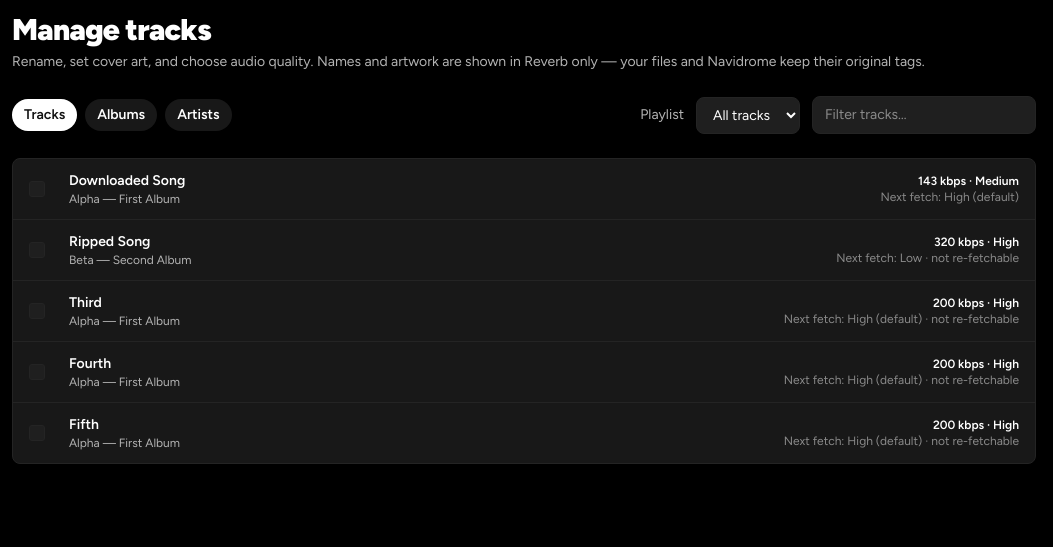
Test: ManageTracks › selection gestures › pressing and sweeping selects the rows crossed
Press the mouse on the list item "Downloaded Song" at (524, 190), box [13,159,1035,220]
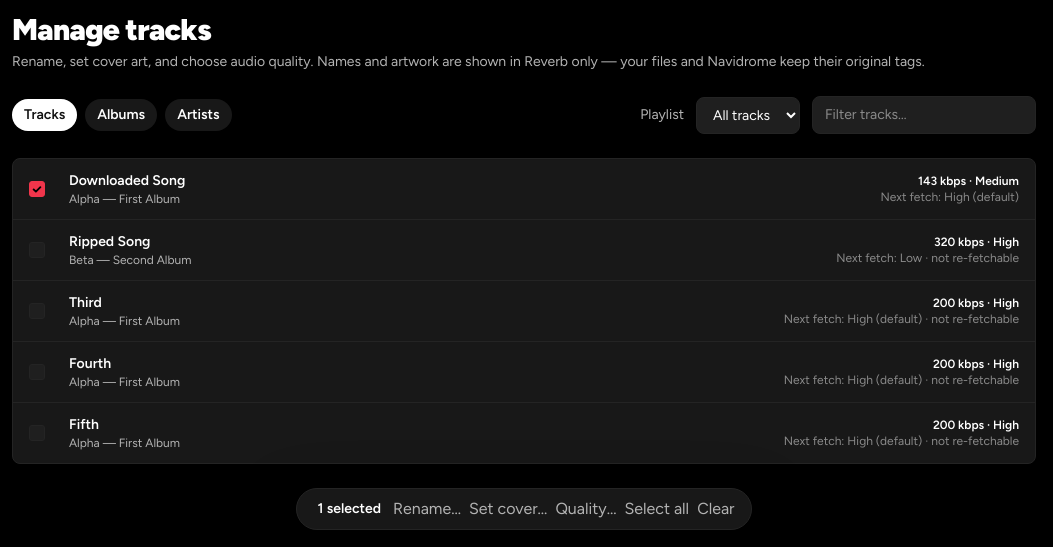
Hover over the list item "Ripped Song".
mouse_move(524, 250)  # box [13,220,1035,281]
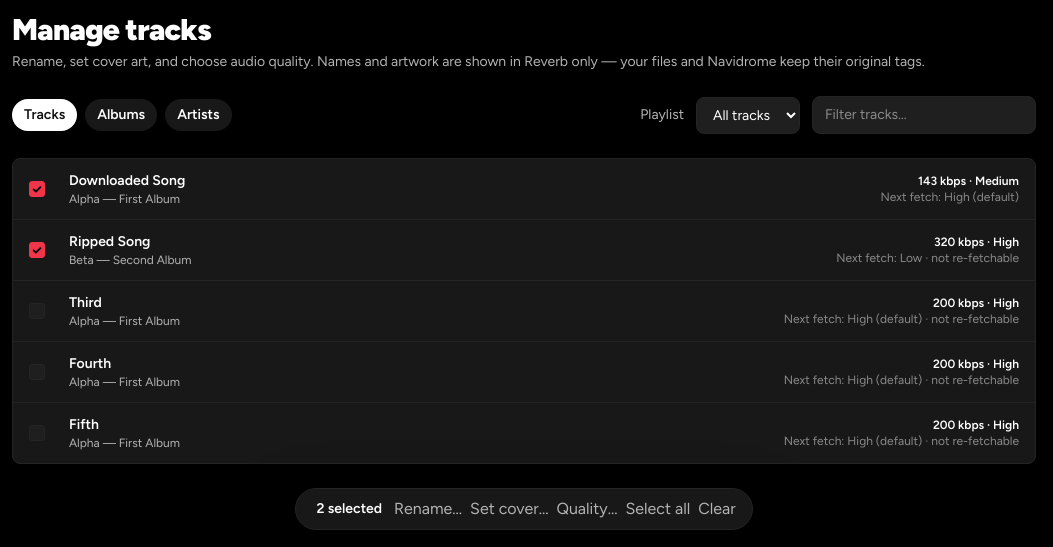
Hover over the list item "Third".
mouse_move(524, 312)  # box [13,281,1035,342]
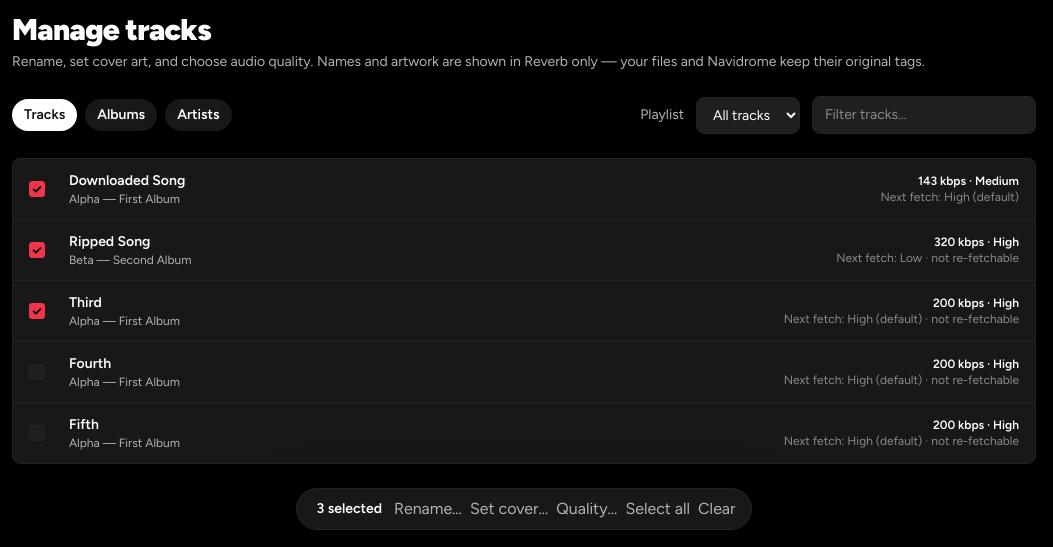
Expected: the text "3 selected" is shown, [312,499,386,519]
Hover over the list item "Ripped Song".
mouse_move(524, 250)  # box [13,220,1035,281]
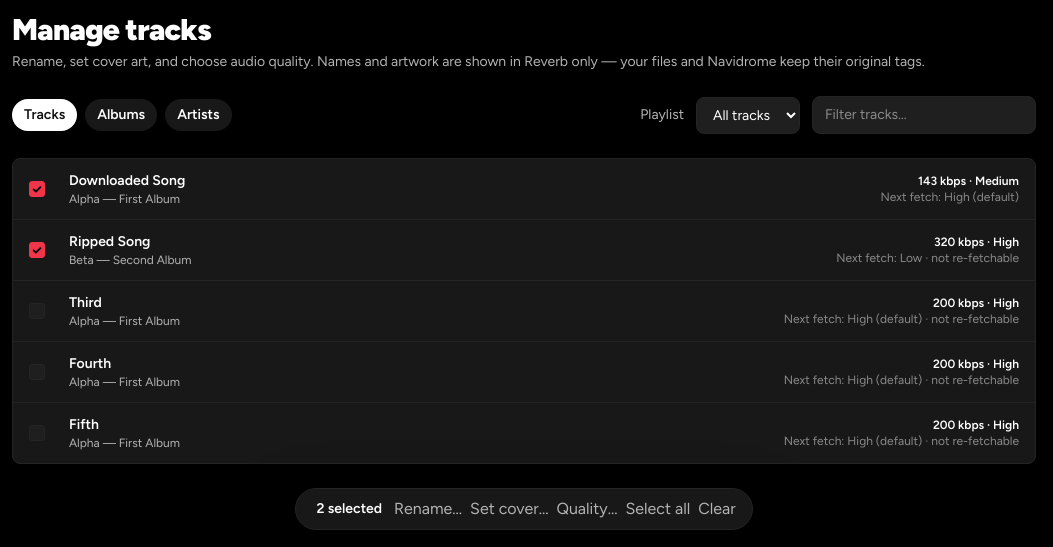
Expected: the text "2 selected" is shown, [312,499,386,519]
